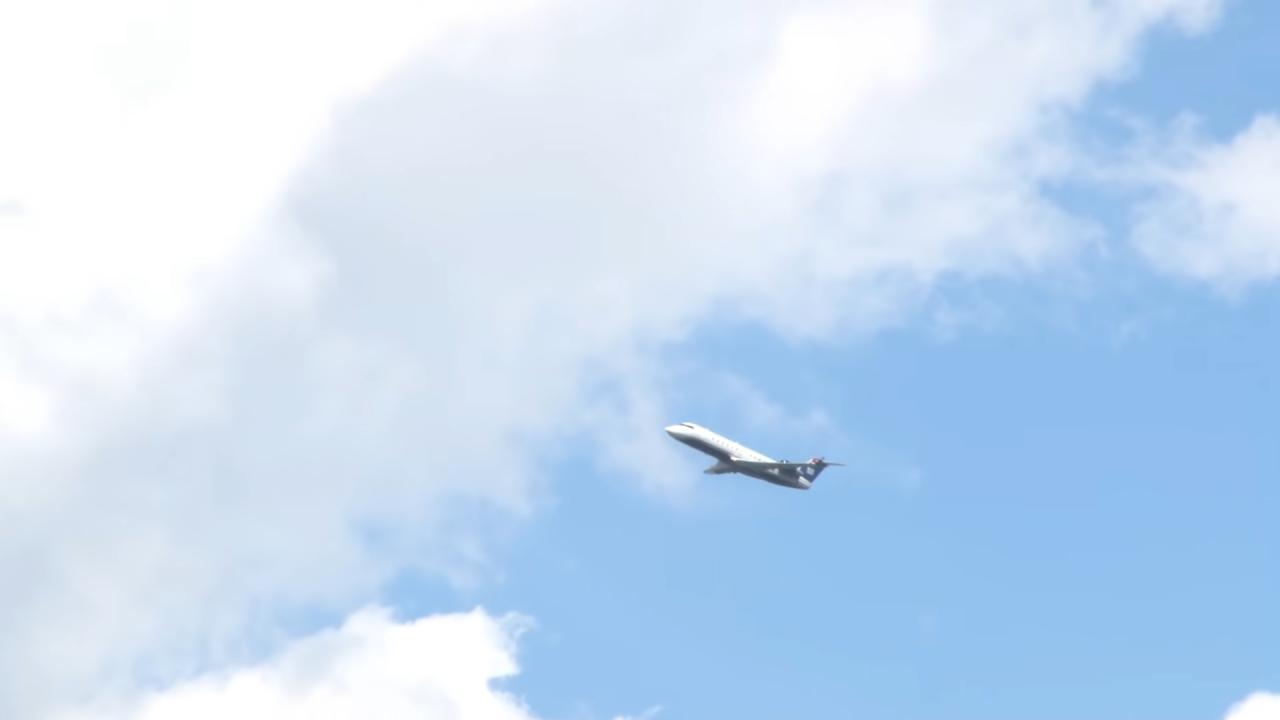Airplane: (650, 408, 852, 502)
